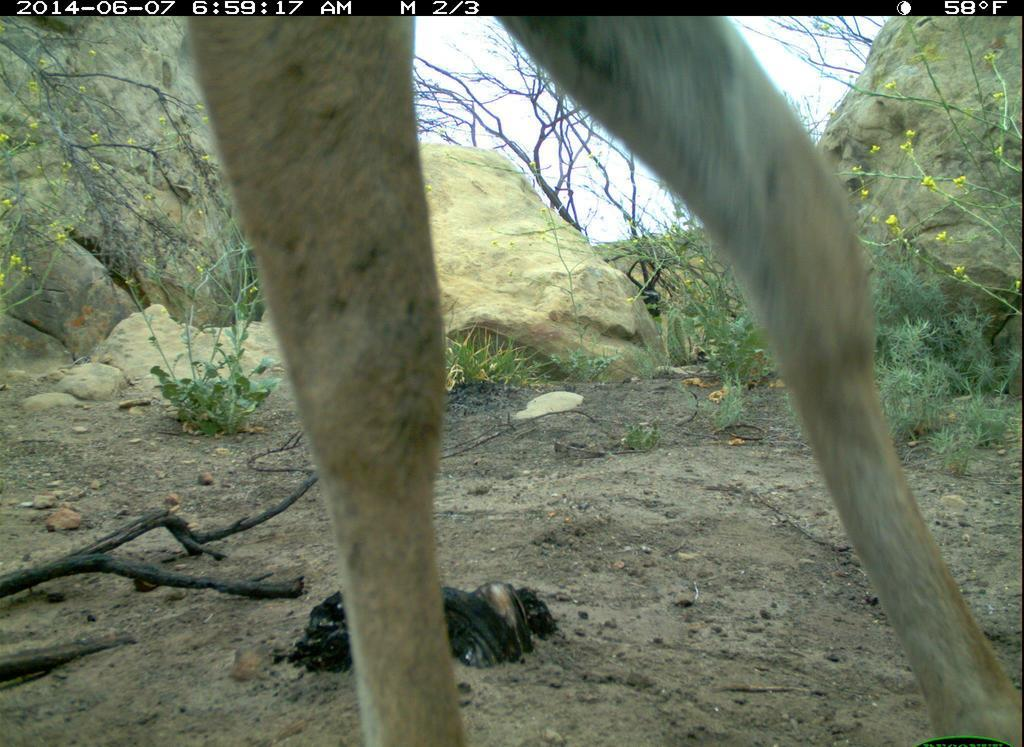deer: (168, 1, 1021, 745)
